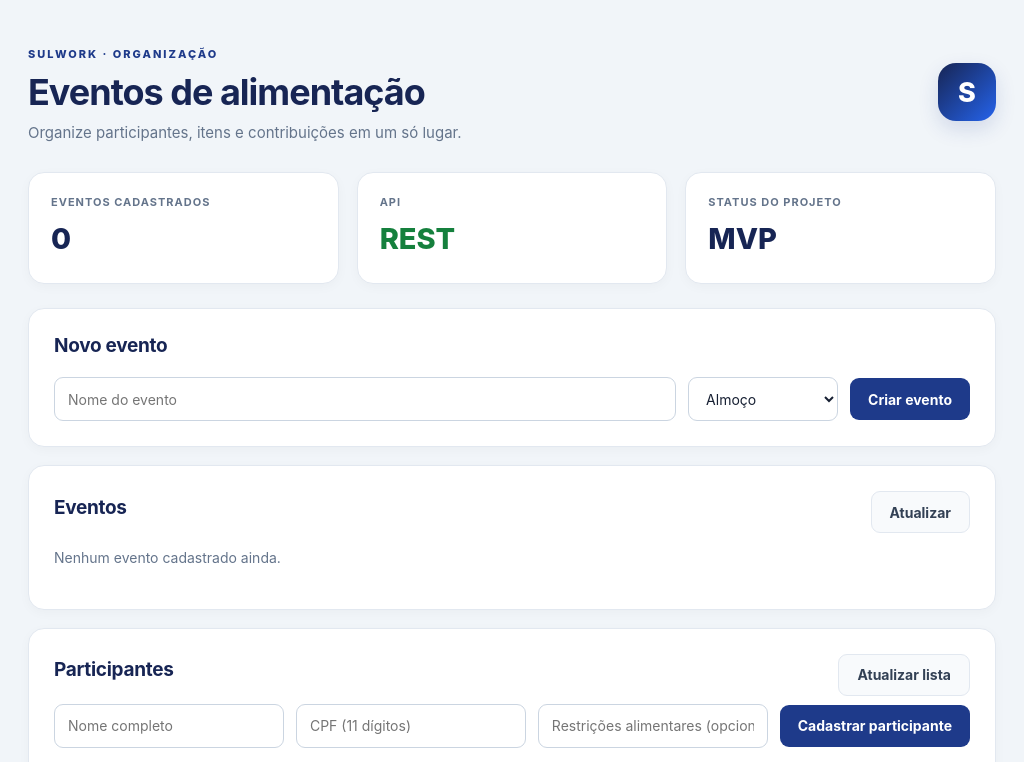
Scenario: Sulwork frontend › exibe mensagem quando não consegue conectar à API ao cadastrar
Type "Evento sem conexão" into the field labelled "Nome do evento".
click(365, 399); type("Evento sem conexão")  # box [54,377,676,421]
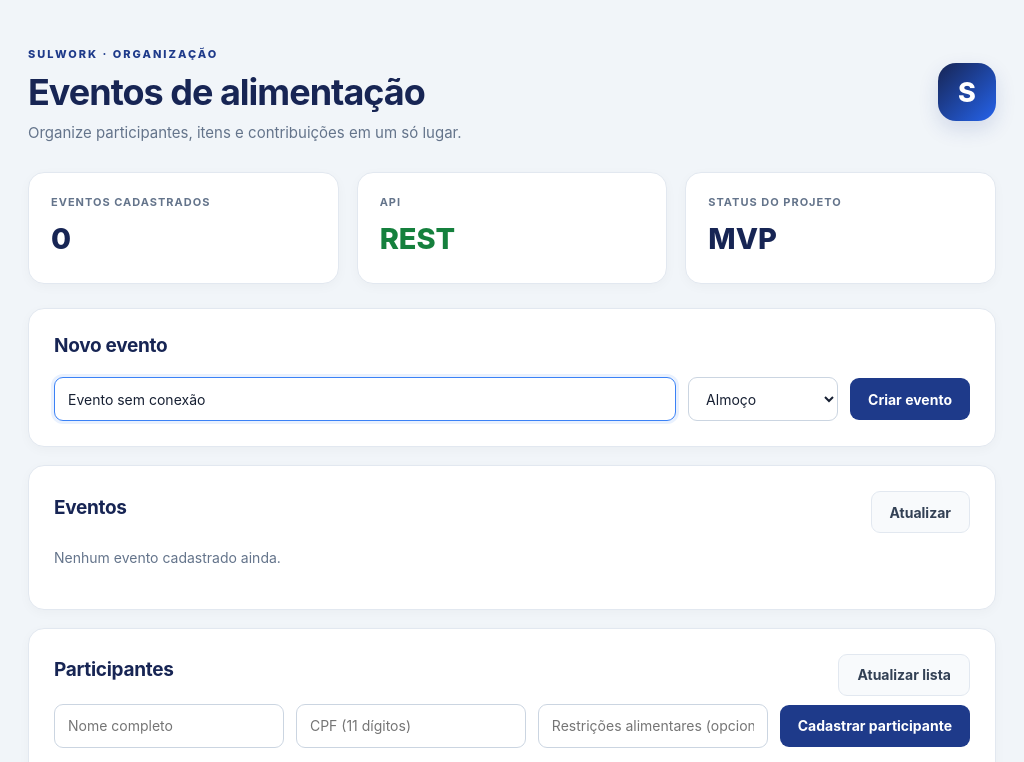
Click the button "Criar evento".
click(910, 399)  # box [850,378,970,420]
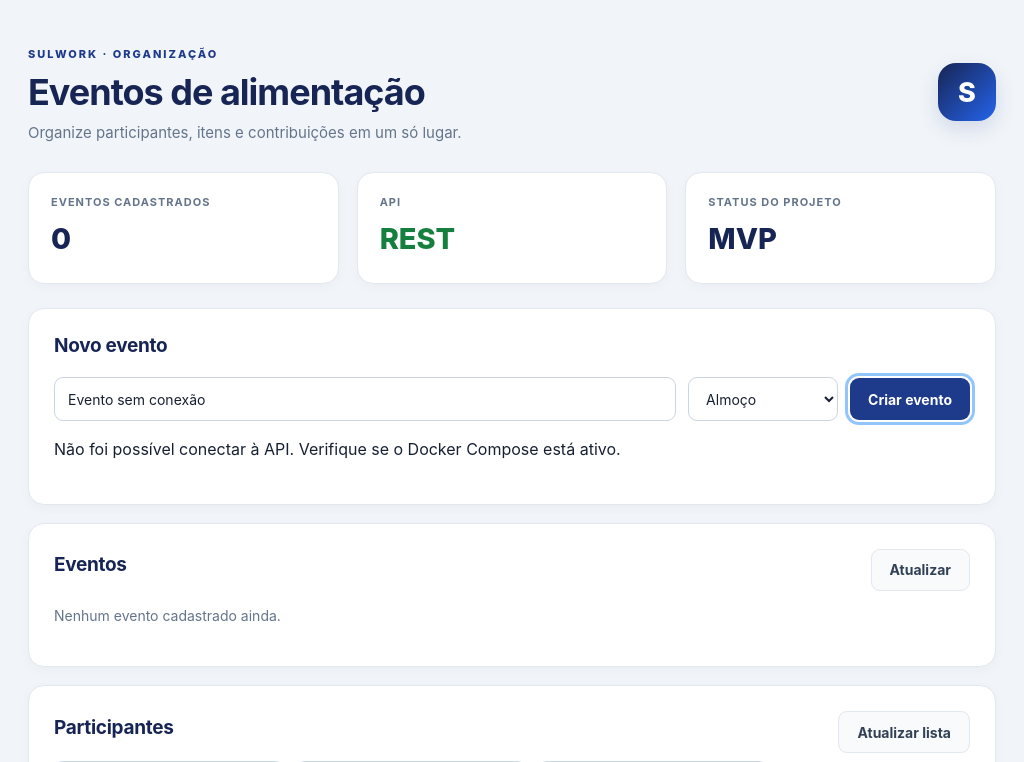
Expected: the text "Não foi possível conectar à API. Verifique se o Docker Compose está ativo." is shown, [54,439,621,459]
